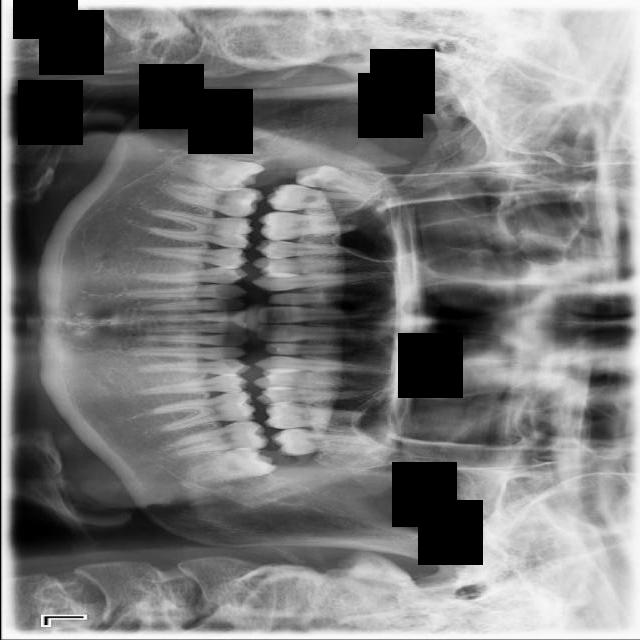3M ESPE Implant: (295, 162, 383, 197)
73: (90, 564, 94, 578)
BioHorizons Implant: (270, 423, 377, 457)
Biomet 3i Implant: (182, 440, 278, 491)
Blue Sky Bio Implant: (167, 419, 268, 457)
Caries: (268, 184, 376, 211)
Implant: (163, 183, 264, 219)
Keystone Dental Implant: (172, 150, 266, 197)
